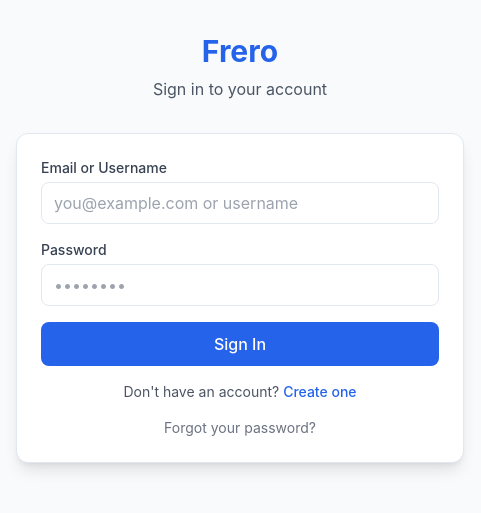
Test case: LoginPage › shows validation errors for empty fields on submit
What coordinates should you click on to do the following:
click the button "Sign In"
I would click on:
 (240, 344)
Its box is [41,322,439,366].
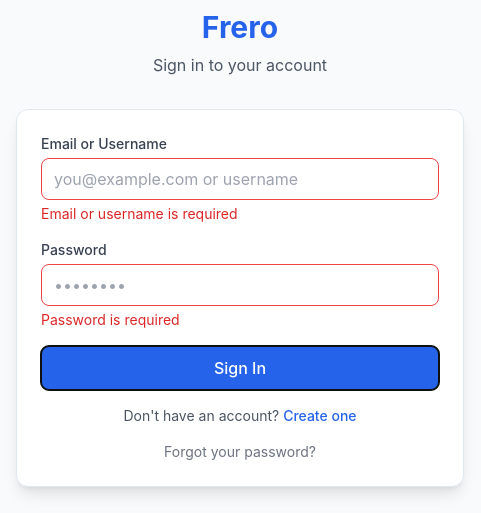
Expected: the text "Email or username is required" is shown, [41,205,238,222]
Expected: the text "Password is required" is shown, [41,311,180,328]
